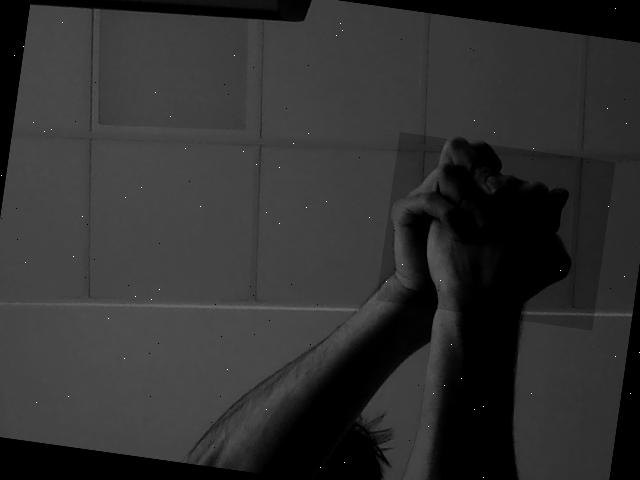friend: (376, 132, 616, 330)
